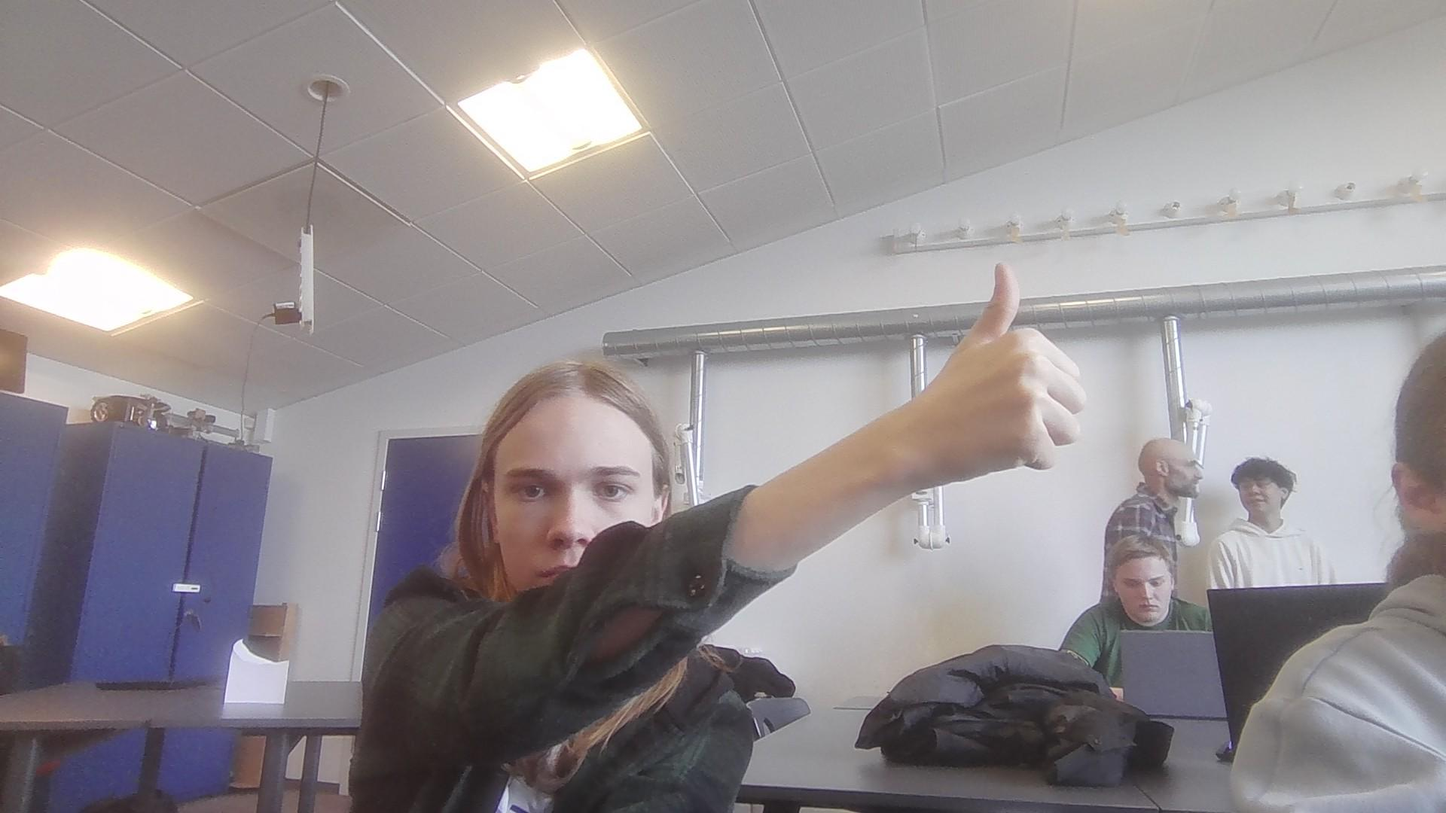thumbs up: (930, 258, 1082, 479)
